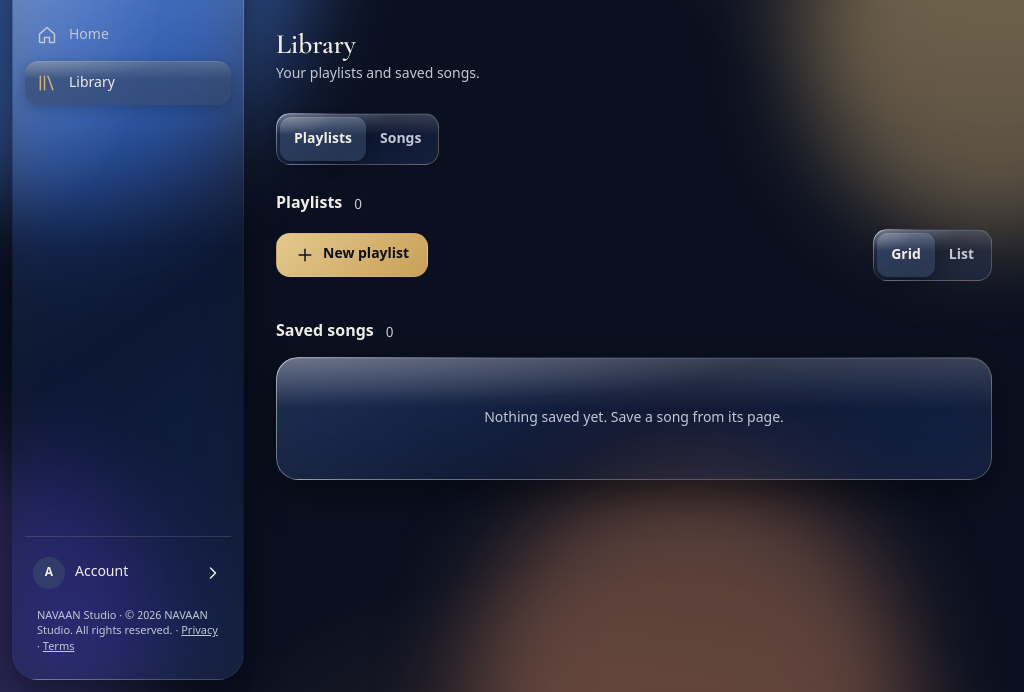
playlists: adding songs, and paging › a song list pages in 24 at a time, by itself or by the button, and says nothing more when it is done
Click the tab "Songs".
click(401, 139)  # box [366, 117, 435, 161]
(page scrolled)
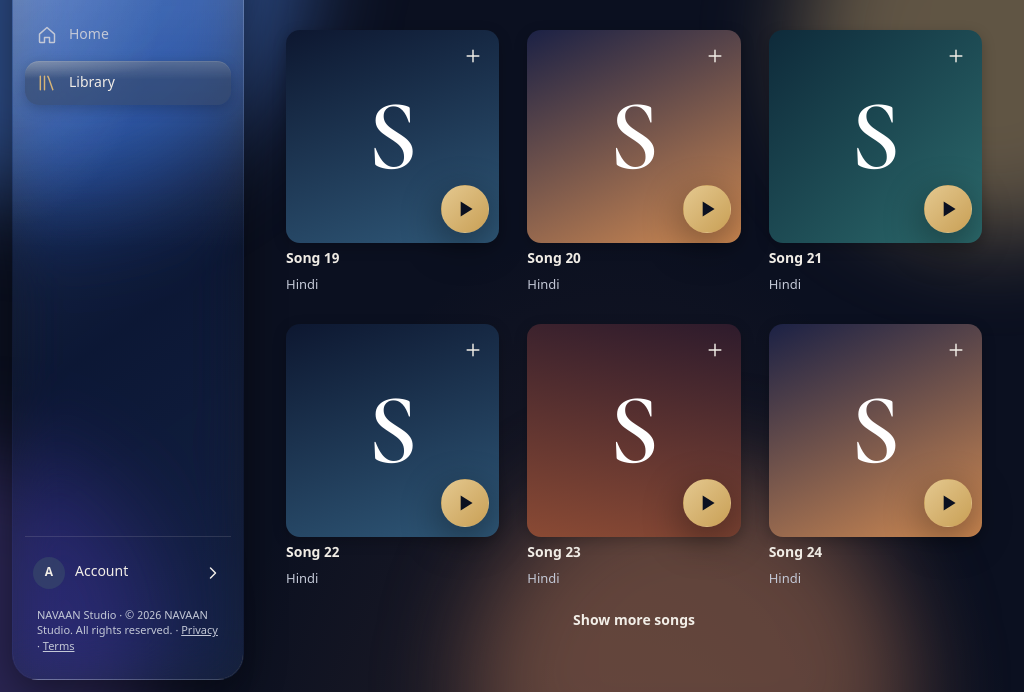
Expected: the link "Song 25" is not shown
Click the button "Show more songs".
click(634, 622)  # box [554, 600, 714, 644]
(page scrolled)
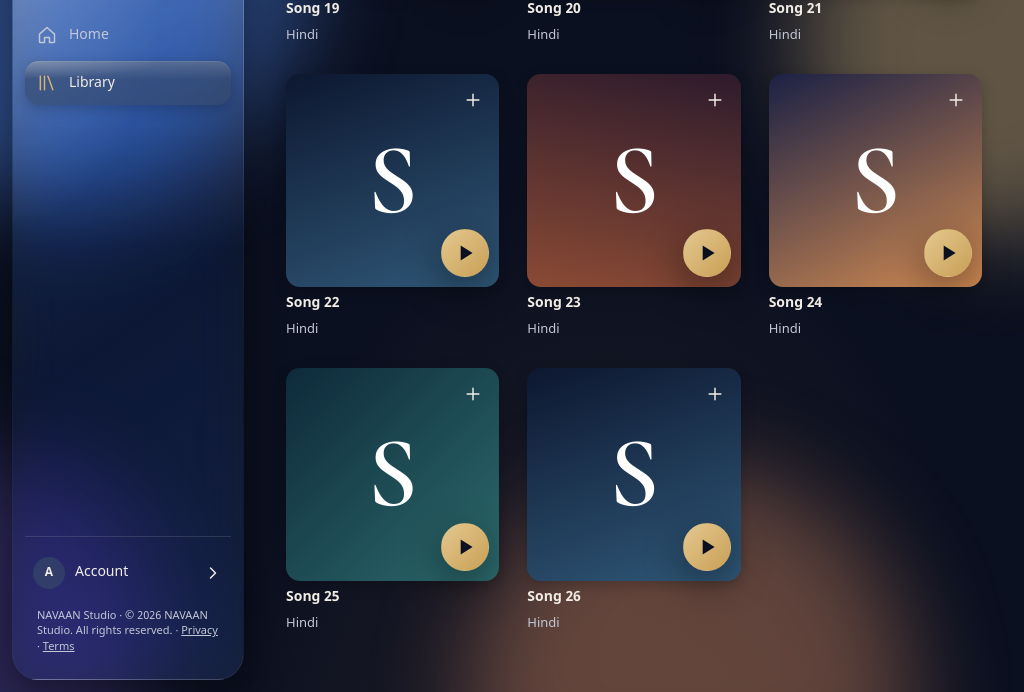
Expected: the link "S Song 26 Hindi" is shown, [517, 358, 751, 644]
Expected: the button "Show more" is gone
